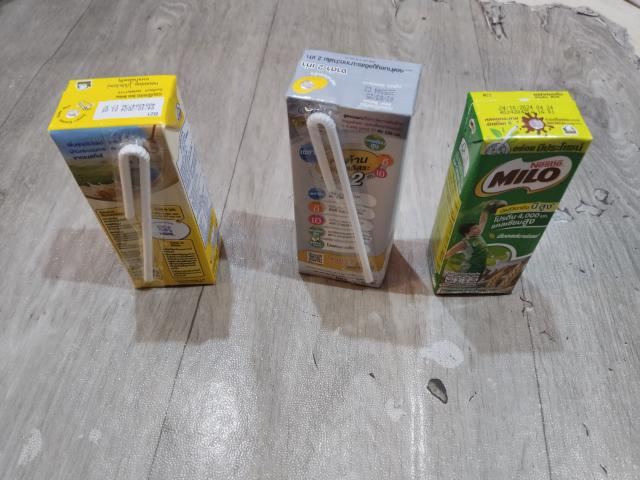drink_box: (39, 66, 234, 298), (419, 82, 601, 303), (281, 36, 427, 295)
